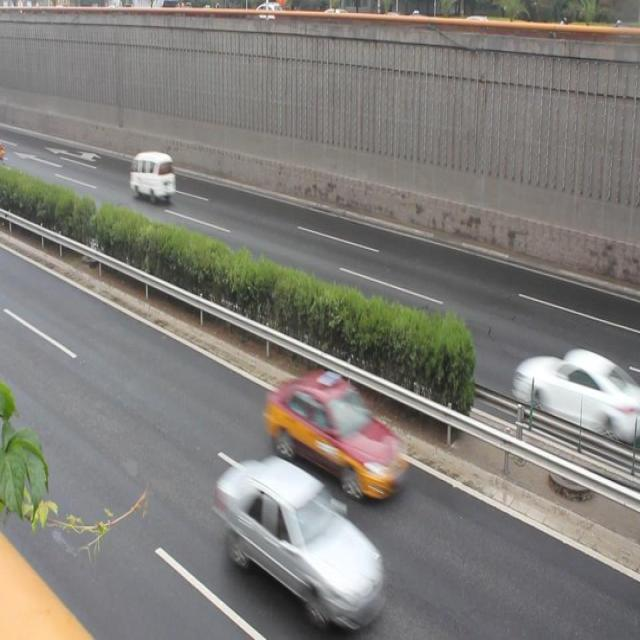car: (224, 460, 384, 614), (268, 371, 406, 498), (516, 350, 616, 438)
truck: (130, 152, 179, 201)
